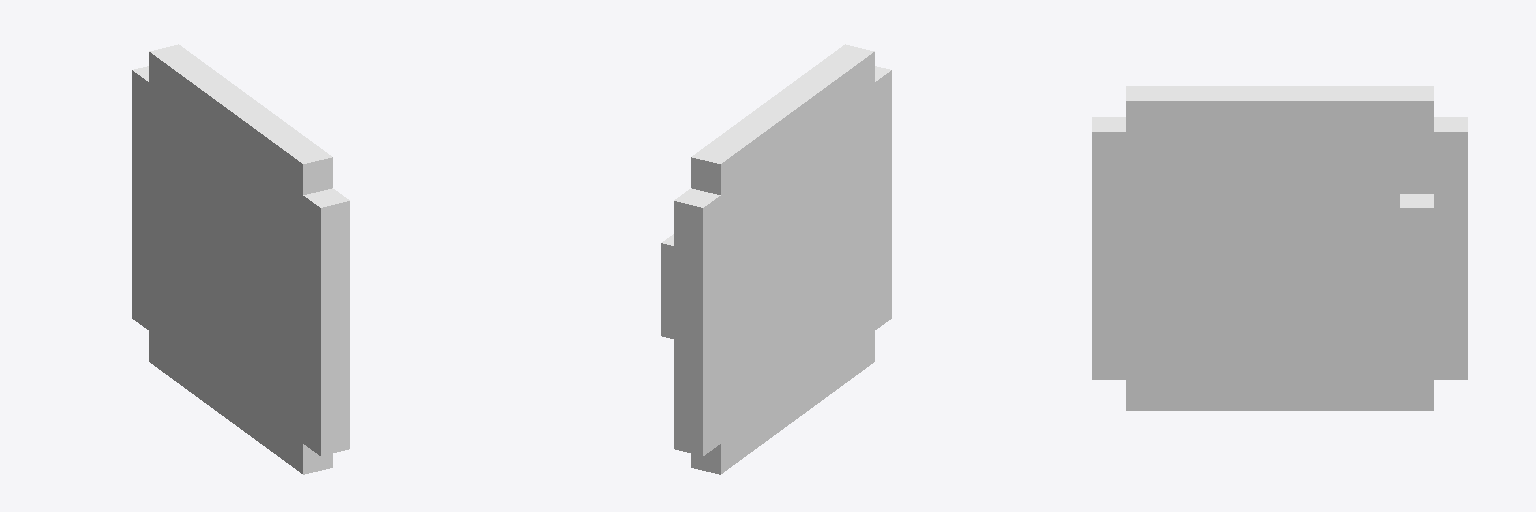
File: elec_doors-0.obj
3 renders of one model, left to right at view 1: azimuth 30°, elevation 25°; view 2: azimuth 150°, elevation 25°; view 3: azimuth 270°, elevation 25°, orthographic.
Visible parts, largest first — view 1: object 1; view 2: object 1; view 3: object 1.
Boxes of the visible parts, <box> form: object 1: <box>132,44,349,474</box>; object 1: <box>661,44,891,474</box>; object 1: <box>1092,86,1467,410</box>.
Bounding box in the file's own units: 0.2 × 1 × 1.1.